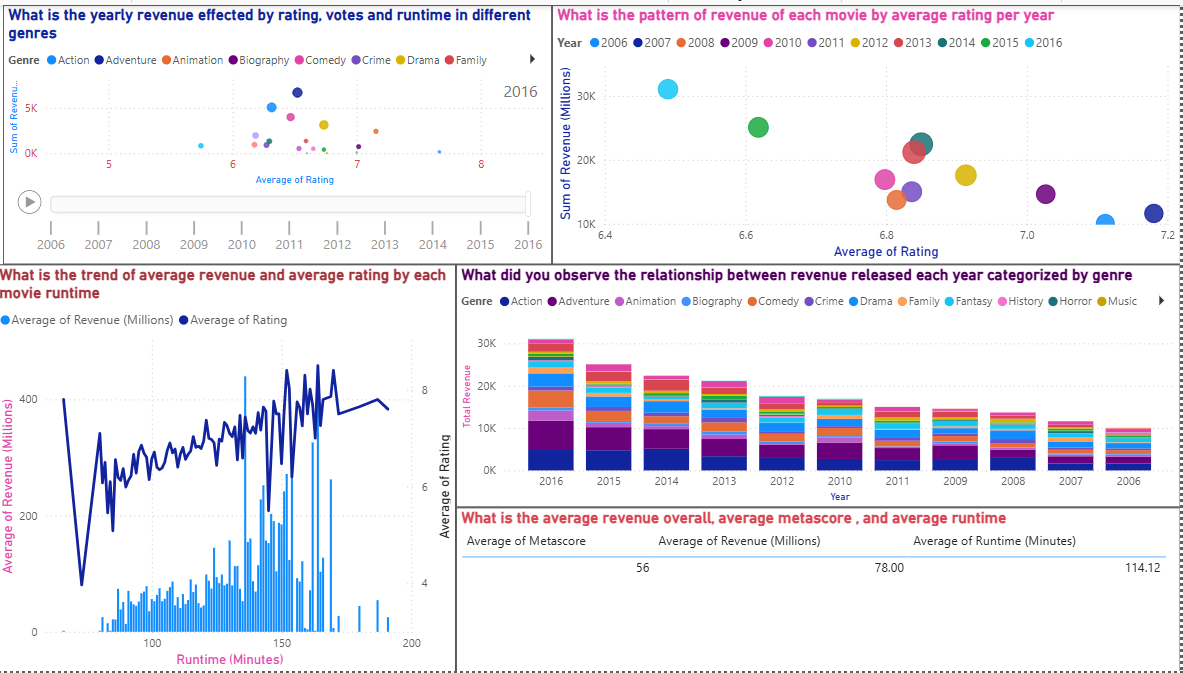

This screenshot's page, from the dashboard's own definition file:
{"tool":"powerbi","page":{"name":"Page 4","canvas":[1280,720],"ordinal":3},"visuals":[{"type":"scatterChart","title":"What is the yearly revenue effected by rating, votes and runtime in different genres","fields":{"X":["Avg(IMDB-Movie-Data.Rating)"],"Y":["Sum(IMDB-Movie-Data.Revenue (Millions))"],"Series":["IMDB-Movie-Data.Genre"],"Size":["Sum(IMDB-Movie-Data.Votes)"],"Play":["IMDB-Movie-Data.Year"]},"box":[9.7,0,592.6,280.1],"z":0},{"type":"lineClusteredColumnComboChart","title":"What is the trend of average revenue and average rating by each  movie runtime ","fields":{"Category":["IMDB-Movie-Data.Runtime (Minutes)"],"Y":["Avg(IMDB-Movie-Data.Revenue (Millions))"],"Y2":["Avg(IMDB-Movie-Data.Rating)"]},"box":[0,280.1,498.7,440.4],"z":1000},{"type":"scatterChart","title":"What is the pattern of revenue of each movie by average rating per year","fields":{"X":["Avg(IMDB-Movie-Data.Rating)"],"Y":["Sum(IMDB-Movie-Data.Revenue (Millions))"],"Series":["IMDB-Movie-Data.Year"],"Size":["Sum(IMDB-Movie-Data.Votes)"]},"box":[602.4,0,678.5,280.1],"z":2000},{"type":"columnChart","title":"What did you observe the relationship between revenue released each year categorized by genre","fields":{"Category":["IMDB-Movie-Data.Year"],"Y":["IMDB-Movie-Data.Total Revenue"],"Series":["IMDB-Movie-Data.Genre"]},"box":[498.7,280.1,782.1,262.3],"z":3000},{"type":"tableEx","title":"What is the average revenue overall, average metascore , and average runtime","fields":{"Values":["Avg(IMDB-Movie-Data.Metascore)","Avg(IMDB-Movie-Data.Revenue (Millions))","Avg(IMDB-Movie-Data.Runtime (Minutes))"]},"box":[498.7,542.4,782.1,178.1],"z":4000}]}

Visuals, with their boxes in screenshot pixels (x1, y1, x2, y2), scaled from the page's 1280x720 canvas onto the 1183x673 screenshot:
"What is the yearly revenue effected by rating, votes and runtime in different genres" scatterChart: region(9, 0, 557, 262)
"What is the trend of average revenue and average rating by each  movie runtime " lineClusteredColumnComboChart: region(0, 262, 461, 672)
"What is the pattern of revenue of each movie by average rating per year" scatterChart: region(557, 0, 1182, 262)
"What did you observe the relationship between revenue released each year categorized by genre" columnChart: region(461, 262, 1182, 507)
"What is the average revenue overall, average metascore , and average runtime" tableEx: region(461, 507, 1182, 672)
